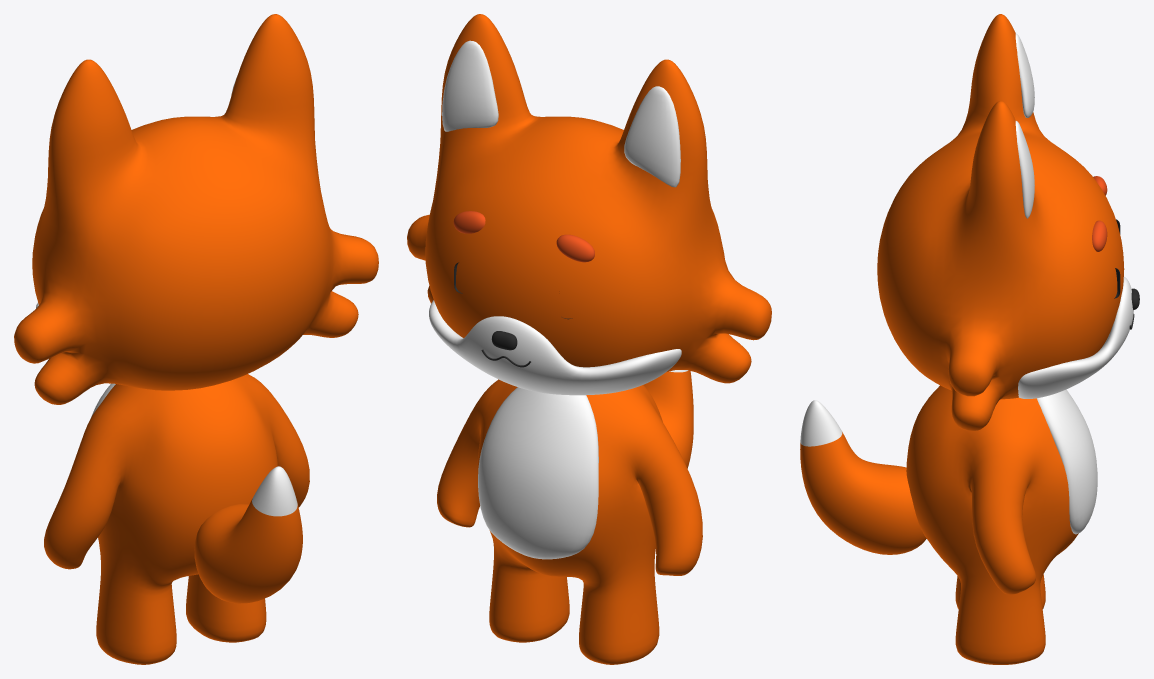
File: FOX1.glb
3 views of the same model, side by side, from view 1: azimuth 30°, elevation 25°; view 2: azimuth 150°, elevation 25°; view 3: azimuth 270°, elevation 25° (orthographic). The views are drawn at different scales.
Visible parts, largest first — view 1: Cube, Cube.001, Cube.008; view 2: Cube, Cube.001, Cube.004, Cube.002, Cube.003, Cube.008, Cube.006; view 3: Cube, Cube.001, Cube.008, Cube.004, Cube.002, Cube.003, Cube.006.
Boxes of the visible parts, <box> form: Cube: <box>14,14,378,404</box>; Cube.001: <box>44,374,309,664</box>; Cube.008: <box>194,466,302,603</box>; Cube: <box>407,14,771,383</box>; Cube.001: <box>437,379,702,664</box>; Cube.004: <box>478,387,598,559</box>; Cube.002: <box>429,300,681,395</box>; Cube.003: <box>442,40,680,187</box>; Cube.008: <box>643,370,693,468</box>; Cube.006: <box>453,211,594,262</box>; Cube: <box>877,14,1124,430</box>; Cube.001: <box>906,385,1078,664</box>; Cube.008: <box>800,400,926,554</box>; Cube.004: <box>1037,389,1097,534</box>; Cube.002: <box>1018,277,1133,398</box>; Cube.003: <box>1015,33,1034,218</box>; Cube.006: <box>1092,176,1107,251</box>.
Size of the model in its own units: 2.56 by 4.12 by 2.2.
